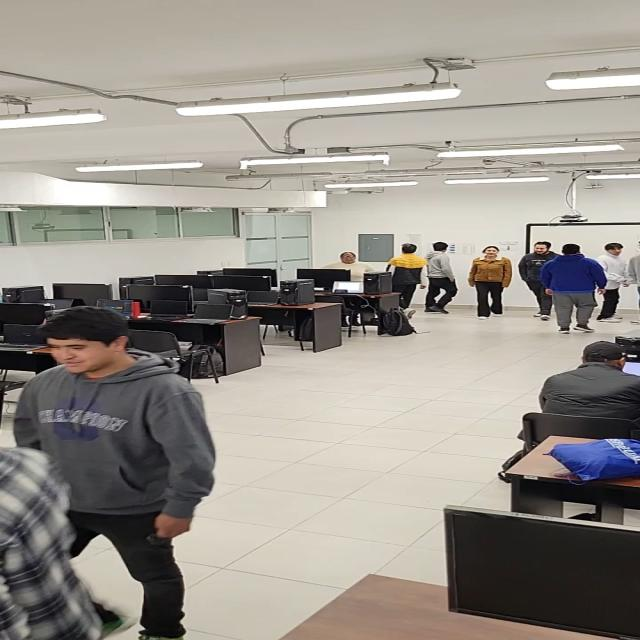Persona: (15, 305, 231, 640), (542, 242, 602, 334), (466, 243, 513, 320), (380, 240, 427, 315), (518, 240, 550, 322), (426, 241, 459, 316), (601, 241, 627, 326)
